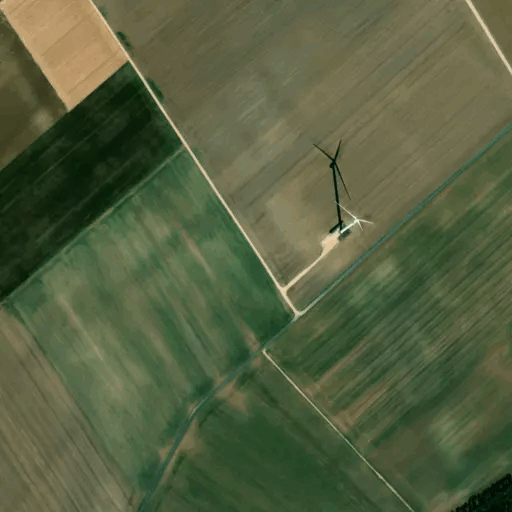wt: (308, 137, 380, 250)
